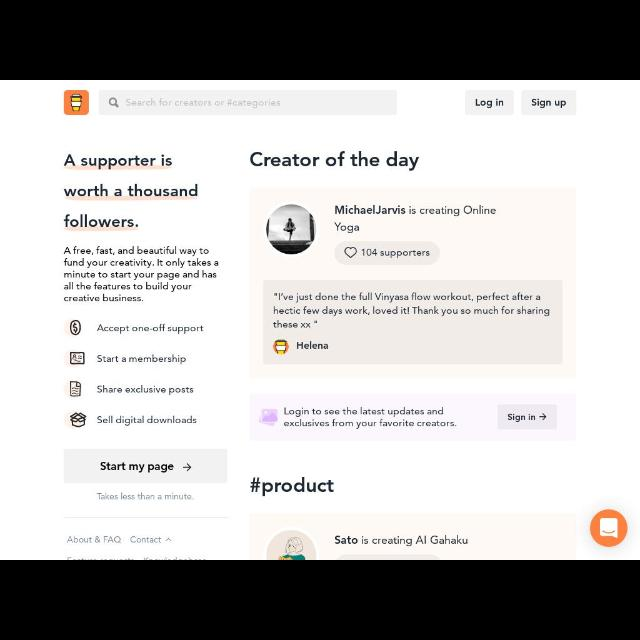button: (590, 512, 628, 546)
icon: (70, 352, 86, 366), (69, 381, 81, 397), (69, 321, 81, 335), (72, 414, 86, 426), (183, 464, 193, 472), (538, 412, 546, 422), (110, 99, 118, 108), (165, 536, 172, 544)
image: (264, 204, 318, 256), (266, 531, 320, 559), (64, 92, 90, 115), (259, 409, 277, 427), (274, 341, 288, 353)
input: (101, 90, 396, 116)
text: (62, 152, 200, 234), (274, 292, 552, 332), (62, 246, 218, 304), (334, 203, 498, 234), (249, 150, 419, 173), (284, 406, 458, 428), (127, 98, 281, 110), (250, 478, 336, 498), (334, 535, 470, 547), (96, 384, 194, 398), (96, 415, 198, 427), (101, 460, 173, 476), (96, 354, 186, 366), (98, 324, 204, 334), (96, 492, 194, 502), (361, 248, 429, 260), (68, 534, 122, 544), (475, 96, 505, 110), (130, 534, 162, 546), (530, 99, 568, 108), (298, 341, 328, 351), (509, 413, 535, 421)
textbutton: (64, 448, 228, 482), (498, 404, 558, 431), (466, 91, 514, 115), (522, 93, 574, 113)
